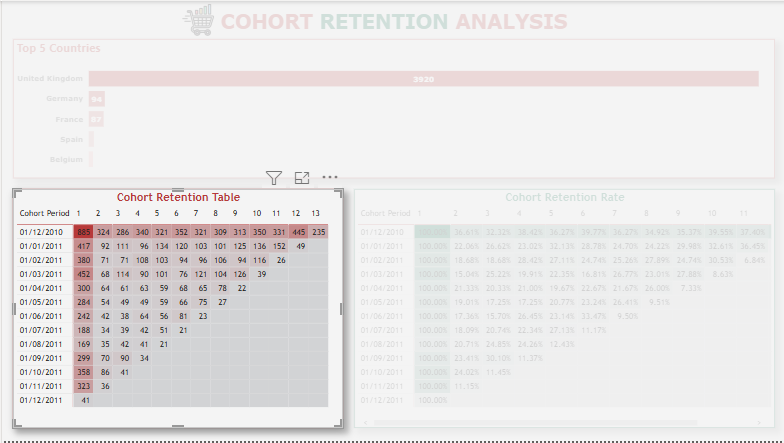

The dashboard page shown, as its layout file describes it:
{"tool":"powerbi","page":{"name":"Page 1","canvas":[1280,720],"ordinal":0},"visuals":[{"type":"pivotTable","title":"Cohort Retention Table","fields":{"Columns":["Cohort Retention.Cohort_index"],"Rows":["Cohort Retention.Cohort Period"],"Values":["Count(Cohort Retention.CustomerID)"]},"box":[18,307.7,540.2,391.2],"z":0},{"type":"pivotTable","title":"Cohort Retention Rate","fields":{"Columns":["Cohort Retention.Cohort_index"],"Rows":["Cohort Retention.Cohort Period"],"Values":["CountNonNull(Cohort Retention.CustomerID)"]},"box":[576.2,307.7,689.1,391.2],"z":1000},{"type":"barChart","title":"Top 5 Countries","fields":{"Category":["Cohort Retention.Country"],"Y":["Count(Cohort Retention.CustomerID)"],"Series":["Cohort Retention.Country"]},"box":[18,62.2,1247.3,227.5],"z":2000},{"type":"textbox","box":[309.4,8.2,664.6,62.2],"z":3000},{"type":"image","box":[288.1,0,65.5,62.2],"z":4000},{"type":"actionButton","box":[1221.1,4.9,44.2,50.7],"z":5000}]}

Visuals, with their boxes in screenshot pixels (x1, y1, x2, y2), scaled from the page's 1280x720 canvas onto the 784x443 screenshot:
"Cohort Retention Table" pivotTable: bbox=(11, 189, 342, 430)
"Cohort Retention Rate" pivotTable: bbox=(353, 189, 775, 430)
"Top 5 Countries" barChart: bbox=(11, 38, 775, 178)
textbox: bbox=(190, 5, 597, 43)
image: bbox=(176, 0, 217, 38)
actionButton: bbox=(748, 3, 775, 34)
